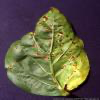Tomato Septoria leaf spot: (5, 3, 89, 96)
